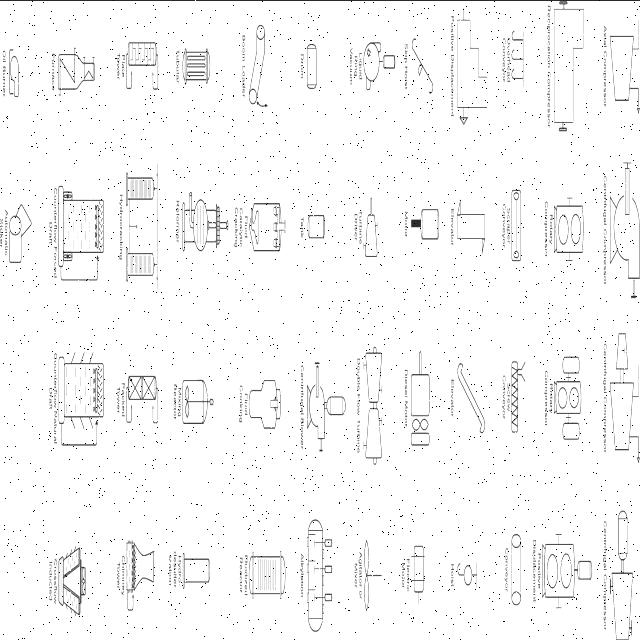Alkyalation: (305, 499, 340, 640)
Automatic Stoker: (8, 165, 34, 312)
Axial Compressor: (608, 12, 640, 124)
Boom Loader: (246, 14, 274, 131)
Centrifugal Blower: (306, 326, 351, 477)
Centrifugal Compressor: (608, 144, 640, 328), (608, 314, 640, 482), (610, 483, 640, 640)
Chimney Tower: (125, 516, 160, 622)
Conveyor: (510, 515, 529, 614)
Counterflow Forced Draft: (58, 154, 108, 302)
Counterflow Natural Draft: (57, 323, 111, 468)
Crossflow Inducted: (58, 528, 92, 622)
Diesel Motor: (409, 333, 434, 477)
Double Flow Turbine: (362, 315, 388, 492)
Drum: (304, 13, 326, 117)
Electric Motor: (410, 526, 434, 612)
Elevator: (457, 332, 490, 463), (456, 196, 492, 260)
Fluid Catalytic Cracking: (248, 178, 290, 288)
Fluid Cooking: (248, 344, 286, 436)
Fluidzed Recactor: (248, 520, 290, 620)
Furnace: (58, 0, 104, 114)
Hoist: (456, 524, 487, 616)
Hydrocracking: (124, 134, 170, 305)
Hydrodesulferization: (182, 538, 218, 604)
Liquid Ring Vacuum: (362, 25, 398, 120)
Mixer: (362, 527, 392, 622)
Mixing Reactor: (182, 342, 215, 442)
Motor: (411, 173, 445, 280)
Oil Burner: (8, 31, 25, 119)
Overhead Conveyor: (510, 13, 530, 124)
Packed Tower: (125, 362, 165, 447)
Plate Tower: (124, 22, 164, 102)
Positive Displacement: (454, 1, 490, 162), (540, 515, 594, 614)
Reciprocation Compressor: (552, 0, 588, 154)
Rotary Compressor: (554, 347, 586, 455), (552, 188, 589, 275)
Scraper Conveyor: (511, 184, 526, 284)
Screw Conveyor: (510, 338, 528, 458)
Skip Hoist: (409, 15, 443, 121)
Tank: (303, 202, 335, 262)
Tubular: (180, 30, 213, 100)
Turbine Driver: (363, 177, 383, 297)
reformer: (180, 178, 232, 274)
